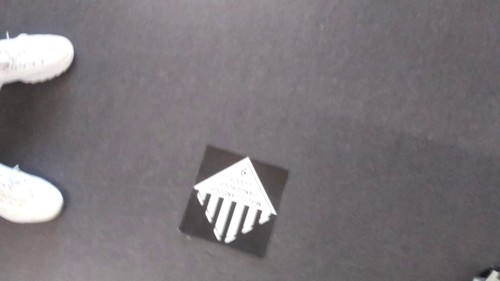misgoods: (189, 160, 280, 241)
